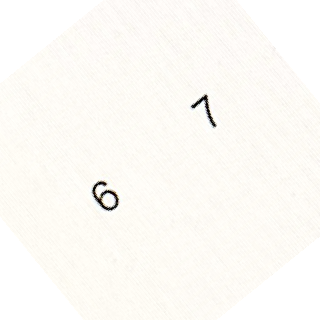seven: (190, 91, 219, 130)
six: (86, 176, 121, 213)
